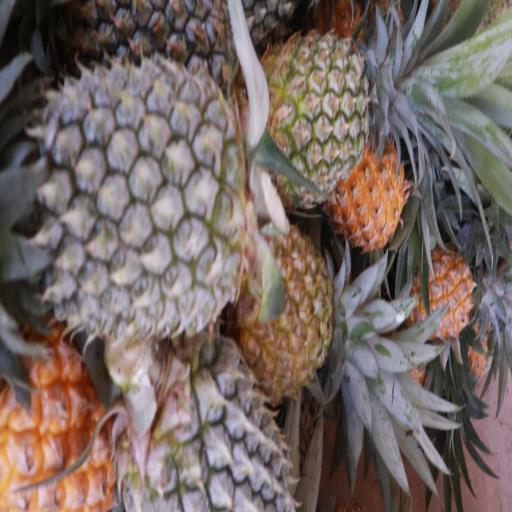------------------------------: (262, 34, 375, 196), (244, 234, 334, 391)
Pineapple - v8 v1: (0, 345, 121, 512), (337, 136, 407, 248), (408, 254, 477, 336)
